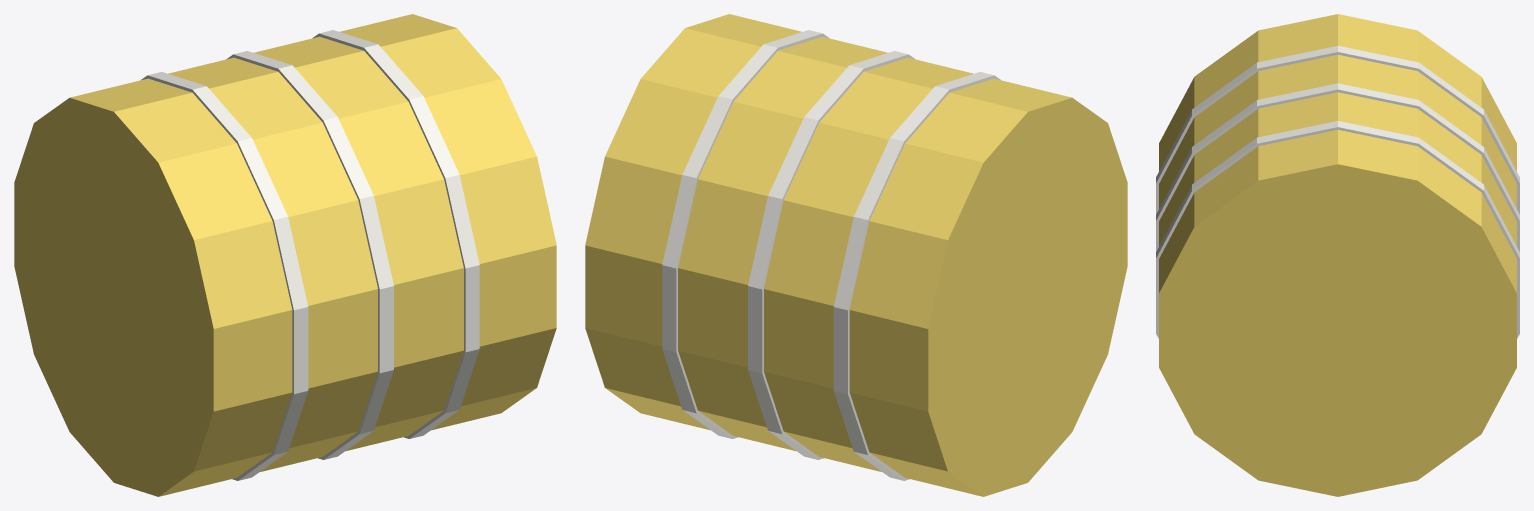
The model's file is travelling-circus-and-big-top-hay-bale-round-afda6e9d.glb.
3 views of the same model, side by side, from view 1: azimuth 30°, elevation 25°; view 2: azimuth 150°, elevation 25°; view 3: azimuth 270°, elevation 25° (orthographic). The views are drawn at different scales.
Parts seen in each view (by area): view 1: hay-bale-round-gold, hay-bale-round-canvas; view 2: hay-bale-round-gold, hay-bale-round-canvas; view 3: hay-bale-round-gold, hay-bale-round-canvas.
Part boxes in pixels (box(x1,y1,x2,y2)): hay-bale-round-gold: box(14, 14, 556, 496); hay-bale-round-canvas: box(141, 30, 479, 480); hay-bale-round-gold: box(585, 14, 1127, 496); hay-bale-round-canvas: box(662, 30, 1000, 480); hay-bale-round-gold: box(1159, 14, 1516, 496); hay-bale-round-canvas: box(1156, 46, 1519, 338).
Size of the model in its own units: 1.2 by 1.26 by 1.23.
